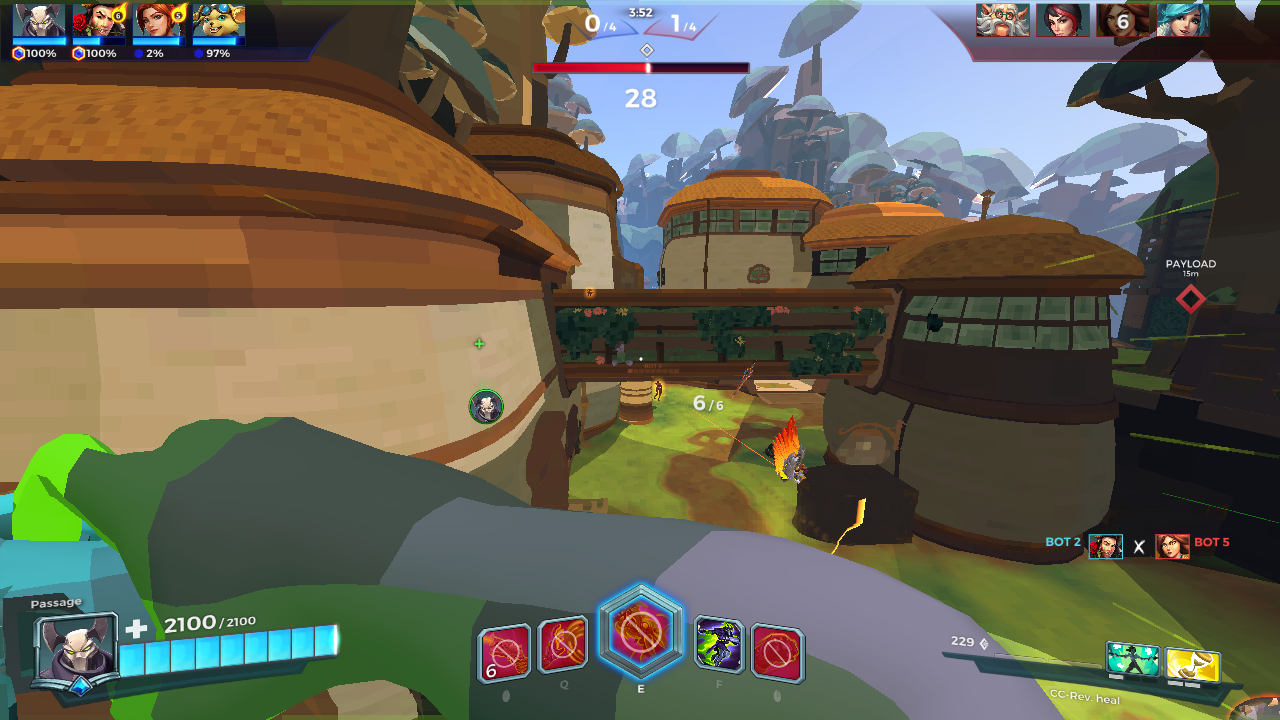model: (649, 378, 668, 404)
